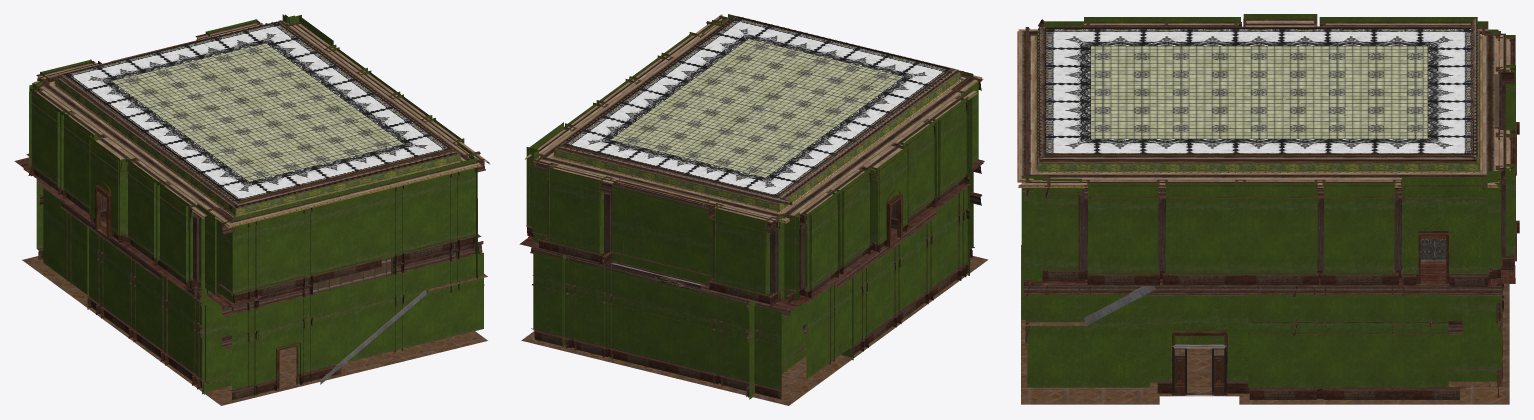
3 views of the same model, side by side, from view 1: azimuth 30°, elevation 25°; view 2: azimuth 150°, elevation 25°; view 3: azimuth 270°, elevation 25° (orthographic). The views are drawn at different scales.
Parts seen in each view (by area): view 1: LOD_1_Group_0_Sub_8__st2_police2fLeftWall06, LOD_1_Group_0_Sub_4__st2_police2fLeftCeiling08, LOD_1_Group_0_Sub_5__st2_police2fLeftCeiling07, LOD_1_Group_0_Sub_2__st2_police2fLeftPillar01, LOD_1_Group_0_Sub_1__st2_police2fLeftFloor08, LOD_1_Group_0_Sub_6__st2_police2fLeftWood01, LOD_1_Group_0_Sub_7__st2_police2fLeftProps01, LOD_1_Group_0_Sub_3__st2_police2fLeftPillar02, LOD_1_Group_0_Sub_10__st2_police2fLeftDoor01; view 2: LOD_1_Group_0_Sub_8__st2_police2fLeftWall06, LOD_1_Group_0_Sub_4__st2_police2fLeftCeiling08, LOD_1_Group_0_Sub_5__st2_police2fLeftCeiling07, LOD_1_Group_0_Sub_2__st2_police2fLeftPillar01, LOD_1_Group_0_Sub_1__st2_police2fLeftFloor08, LOD_1_Group_0_Sub_6__st2_police2fLeftWood01, LOD_1_Group_0_Sub_10__st2_police2fLeftDoor01; view 3: LOD_1_Group_0_Sub_8__st2_police2fLeftWall06, LOD_1_Group_0_Sub_4__st2_police2fLeftCeiling08, LOD_1_Group_0_Sub_5__st2_police2fLeftCeiling07, LOD_1_Group_0_Sub_2__st2_police2fLeftPillar01, LOD_1_Group_0_Sub_1__st2_police2fLeftFloor08, LOD_1_Group_0_Sub_12__st2_policeHallDoorFrame04, LOD_1_Group_0_Sub_6__st2_police2fLeftWood01, LOD_1_Group_0_Sub_3__st2_police2fLeftPillar02, LOD_1_Group_0_Sub_9__st2_police1fLeftDoor02.
Boxes of the visible parts, <box> form: LOD_1_Group_0_Sub_8__st2_police2fLeftWall06: <box>29,14,483,395</box>; LOD_1_Group_0_Sub_4__st2_police2fLeftCeiling08: <box>33,21,490,227</box>; LOD_1_Group_0_Sub_5__st2_police2fLeftCeiling07: <box>112,43,402,181</box>; LOD_1_Group_0_Sub_2__st2_police2fLeftPillar01: <box>26,20,485,400</box>; LOD_1_Group_0_Sub_1__st2_police2fLeftFloor08: <box>22,256,487,405</box>; LOD_1_Group_0_Sub_6__st2_police2fLeftWood01: <box>14,157,481,308</box>; LOD_1_Group_0_Sub_7__st2_police2fLeftProps01: <box>111,39,394,294</box>; LOD_1_Group_0_Sub_3__st2_police2fLeftPillar02: <box>257,290,427,384</box>; LOD_1_Group_0_Sub_10__st2_police2fLeftDoor01: <box>95,181,111,238</box>; LOD_1_Group_0_Sub_8__st2_police2fLeftWall06: <box>526,14,978,399</box>; LOD_1_Group_0_Sub_4__st2_police2fLeftCeiling08: <box>525,14,983,224</box>; LOD_1_Group_0_Sub_5__st2_police2fLeftCeiling07: <box>611,39,902,177</box>; LOD_1_Group_0_Sub_2__st2_police2fLeftPillar01: <box>526,15,982,399</box>; LOD_1_Group_0_Sub_1__st2_police2fLeftFloor08: <box>521,256,987,405</box>; LOD_1_Group_0_Sub_6__st2_police2fLeftWood01: <box>519,159,984,310</box>; LOD_1_Group_0_Sub_10__st2_police2fLeftDoor01: <box>886,190,902,247</box>; LOD_1_Group_0_Sub_8__st2_police2fLeftWall06: <box>1021,14,1515,387</box>; LOD_1_Group_0_Sub_4__st2_police2fLeftCeiling08: <box>1017,18,1510,187</box>; LOD_1_Group_0_Sub_5__st2_police2fLeftCeiling07: <box>1091,46,1427,138</box>; LOD_1_Group_0_Sub_2__st2_police2fLeftPillar01: <box>1022,18,1519,399</box>; LOD_1_Group_0_Sub_1__st2_police2fLeftFloor08: <box>1021,245,1509,404</box>; LOD_1_Group_0_Sub_12__st2_policeHallDoorFrame04: <box>1172,224,1452,396</box>; LOD_1_Group_0_Sub_6__st2_police2fLeftWood01: <box>1041,159,1516,287</box>; LOD_1_Group_0_Sub_3__st2_police2fLeftPillar02: <box>1084,239,1445,324</box>; LOD_1_Group_0_Sub_9__st2_police1fLeftDoor02: <box>1172,331,1227,395</box>.
Size of the model in its own units: 15.89 by 10.41 by 19.72.
